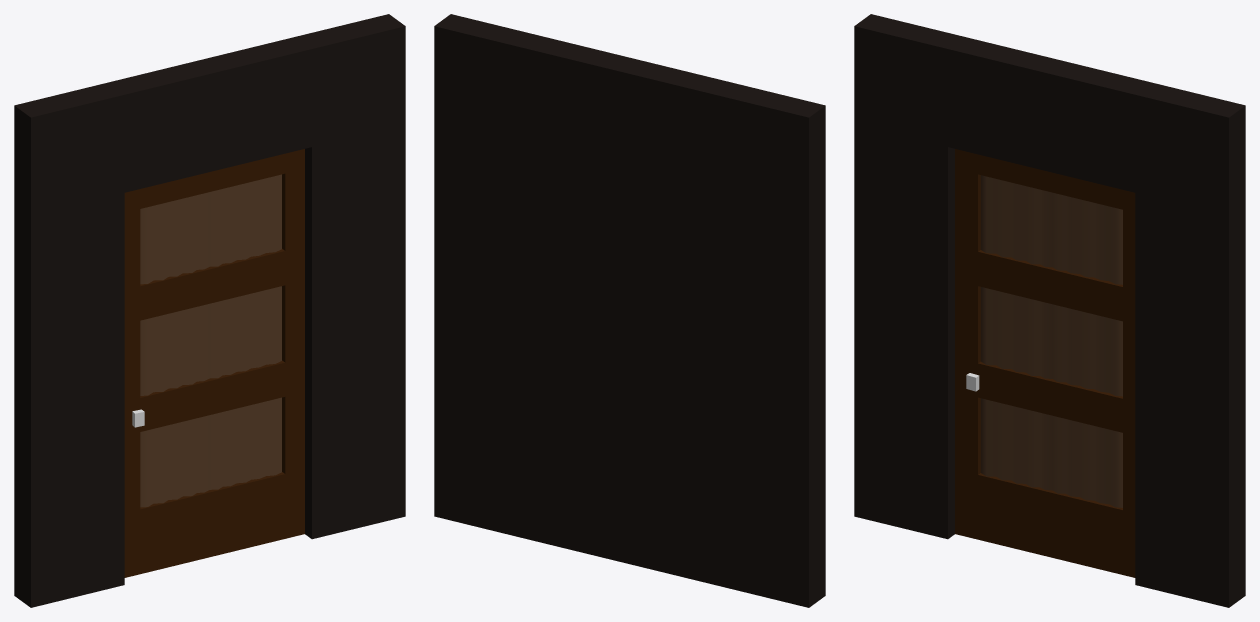
Rendered from Modé - Porte 1.fbx.
3 renders of one model, left to right at view 1: azimuth 30°, elevation 25°; view 2: azimuth 150°, elevation 25°; view 3: azimuth 330°, elevation 25°, orthographic.
Parts seen in each view (by area): view 1: Box020, Box019, Plane008, Plane018, Plane017; view 2: Box020; view 3: Box020, Box019, Plane008, Plane018, Plane017.
Part boxes in pixels (left/top/right/bottom): Box020: left=14, top=14, right=405, bottom=607; Box019: left=124, top=149, right=304, bottom=577; Plane008: left=140, top=174, right=281, bottom=284; Plane018: left=140, top=397, right=281, bottom=507; Plane017: left=140, top=286, right=281, bottom=395; Box020: left=434, top=14, right=825, bottom=607; Box020: left=854, top=14, right=1245, bottom=607; Box019: left=955, top=149, right=1135, bottom=577; Plane008: left=980, top=175, right=1122, bottom=284; Plane018: left=980, top=398, right=1122, bottom=507; Plane017: left=980, top=287, right=1122, bottom=396.
Size of the model in its own units: 201 by 251 by 15.56.
